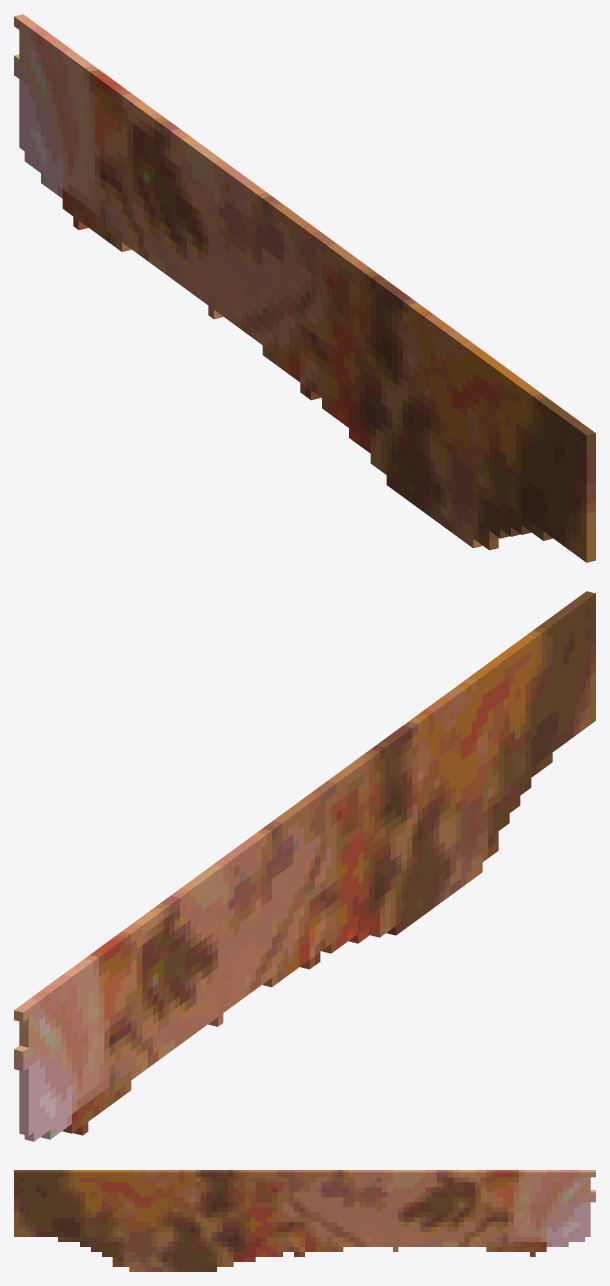
The model's file is beda.vox-8-beda_r.obj.
3 views of the same model, one above another, from view 1: azimuth 30°, elevation 25°; view 2: azimuth 150°, elevation 25°; view 3: azimuth 270°, elevation 25° (orthographic). The views are drawn at different scales.
Visible parts, largest first — view 1: beda_r; view 2: beda_r; view 3: beda_r.
Boxes of the visible parts, left/top/right/bottom form: beda_r: left=14, top=14, right=595, bottom=562; beda_r: left=14, top=591, right=595, bottom=1141; beda_r: left=14, top=1170, right=595, bottom=1271.
Bounding box in the file's own units: 0.1 × 2 × 10.6.
Materials: 1 (1 with a texture image).
